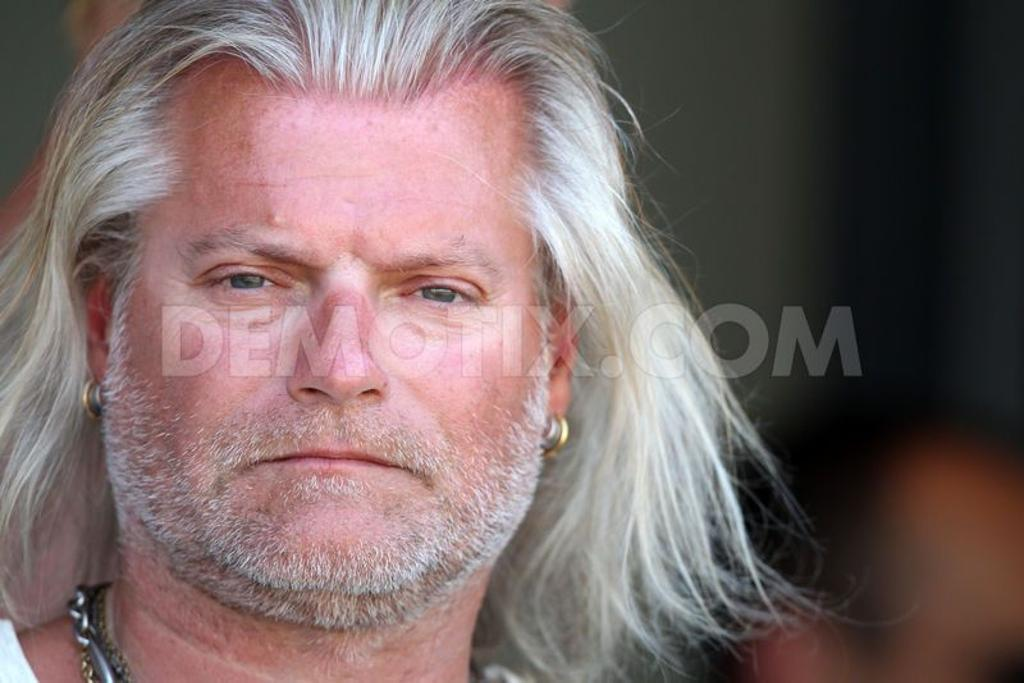face: (120, 78, 528, 618)
